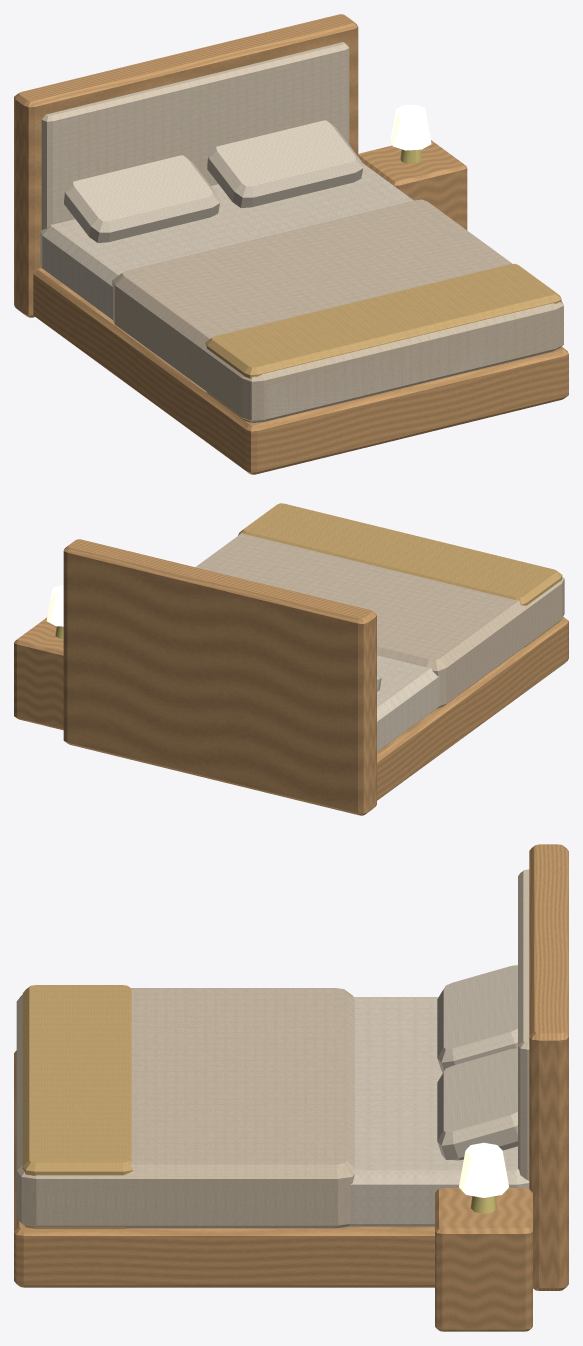
The model's file is bed_queen_modern.glb.
3 views of the same model, one above another, from view 1: azimuth 30°, elevation 25°; view 2: azimuth 150°, elevation 25°; view 3: azimuth 270°, elevation 25° (orthographic). The views are drawn at different scales.
Parts seen in each view (by area): view 1: bed_queen_modern_beddingDuvet, bed_queen_modern_woodOak, bed_queen_modern_beddingWhite, bed_queen_modern_fabricLinen, bed_queen_modern_pillowMustard, bed_queen_modern_emissiveWarm; view 2: bed_queen_modern_woodOak, bed_queen_modern_beddingDuvet, bed_queen_modern_pillowMustard, bed_queen_modern_beddingWhite, bed_queen_modern_emissiveWarm; view 3: bed_queen_modern_beddingDuvet, bed_queen_modern_woodOak, bed_queen_modern_beddingWhite, bed_queen_modern_pillowMustard, bed_queen_modern_fabricLinen, bed_queen_modern_emissiveWarm.
Boxes of the visible parts, <box> form: bed_queen_modern_beddingDuvet: <box>112,199,563,422</box>; bed_queen_modern_woodOak: <box>14,14,568,474</box>; bed_queen_modern_beddingWhite: <box>40,120,545,418</box>; bed_queen_modern_fabricLinen: <box>41,42,349,268</box>; bed_queen_modern_pillowMustard: <box>205,263,561,422</box>; bed_queen_modern_emissiveWarm: <box>390,104,431,150</box>; bed_queen_modern_woodOak: <box>14,539,568,815</box>; bed_queen_modern_beddingDuvet: <box>195,533,564,708</box>; bed_queen_modern_pillowMustard: <box>238,503,562,646</box>; bed_queen_modern_beddingWhite: <box>377,655,439,751</box>; bed_queen_modern_emissiveWarm: <box>46,585,63,626</box>; bed_queen_modern_beddingDuvet: <box>16,988,354,1228</box>; bed_queen_modern_woodOak: <box>14,844,568,1331</box>; bed_queen_modern_beddingWhite: <box>349,965,529,1226</box>; bed_queen_modern_pillowMustard: <box>22,985,132,1228</box>; bed_queen_modern_fabricLinen: <box>518,869,529,1180</box>; bed_queen_modern_emissiveWarm: <box>459,1142,508,1197</box>.
Size of what is drawn, in the model's own units: 2.04 by 1.05 by 2.05.
Materials: 7 (5 with a texture image).
